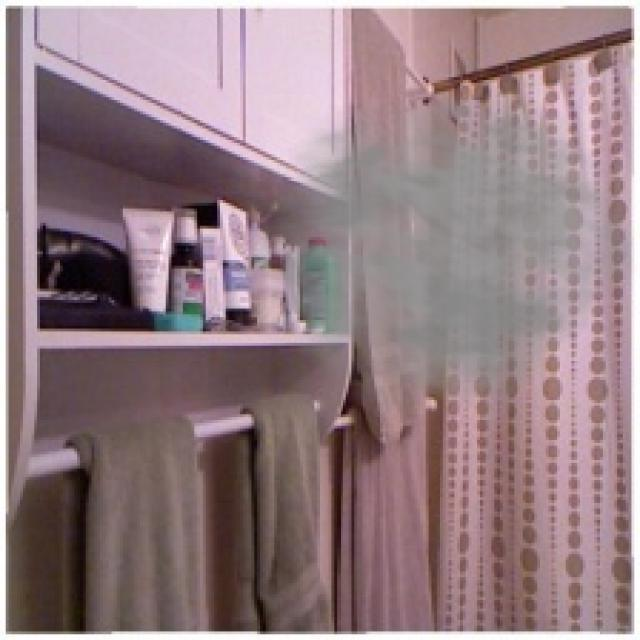Smoke: (225, 80, 638, 429)
